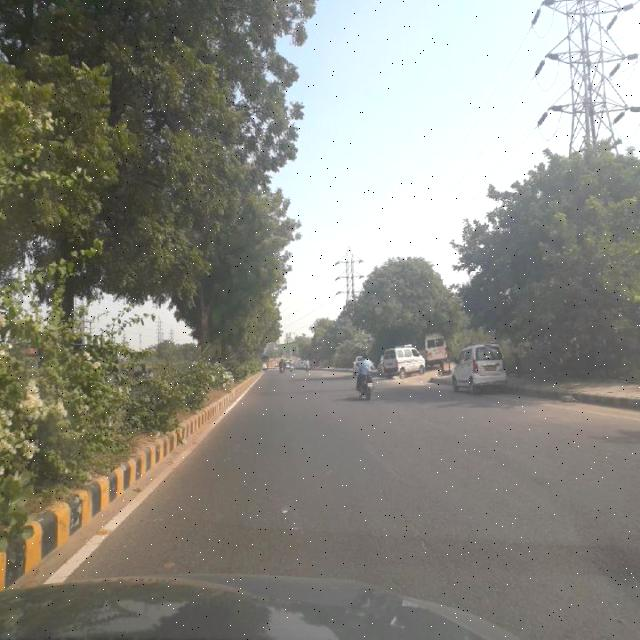D00: (376, 472, 440, 572)
